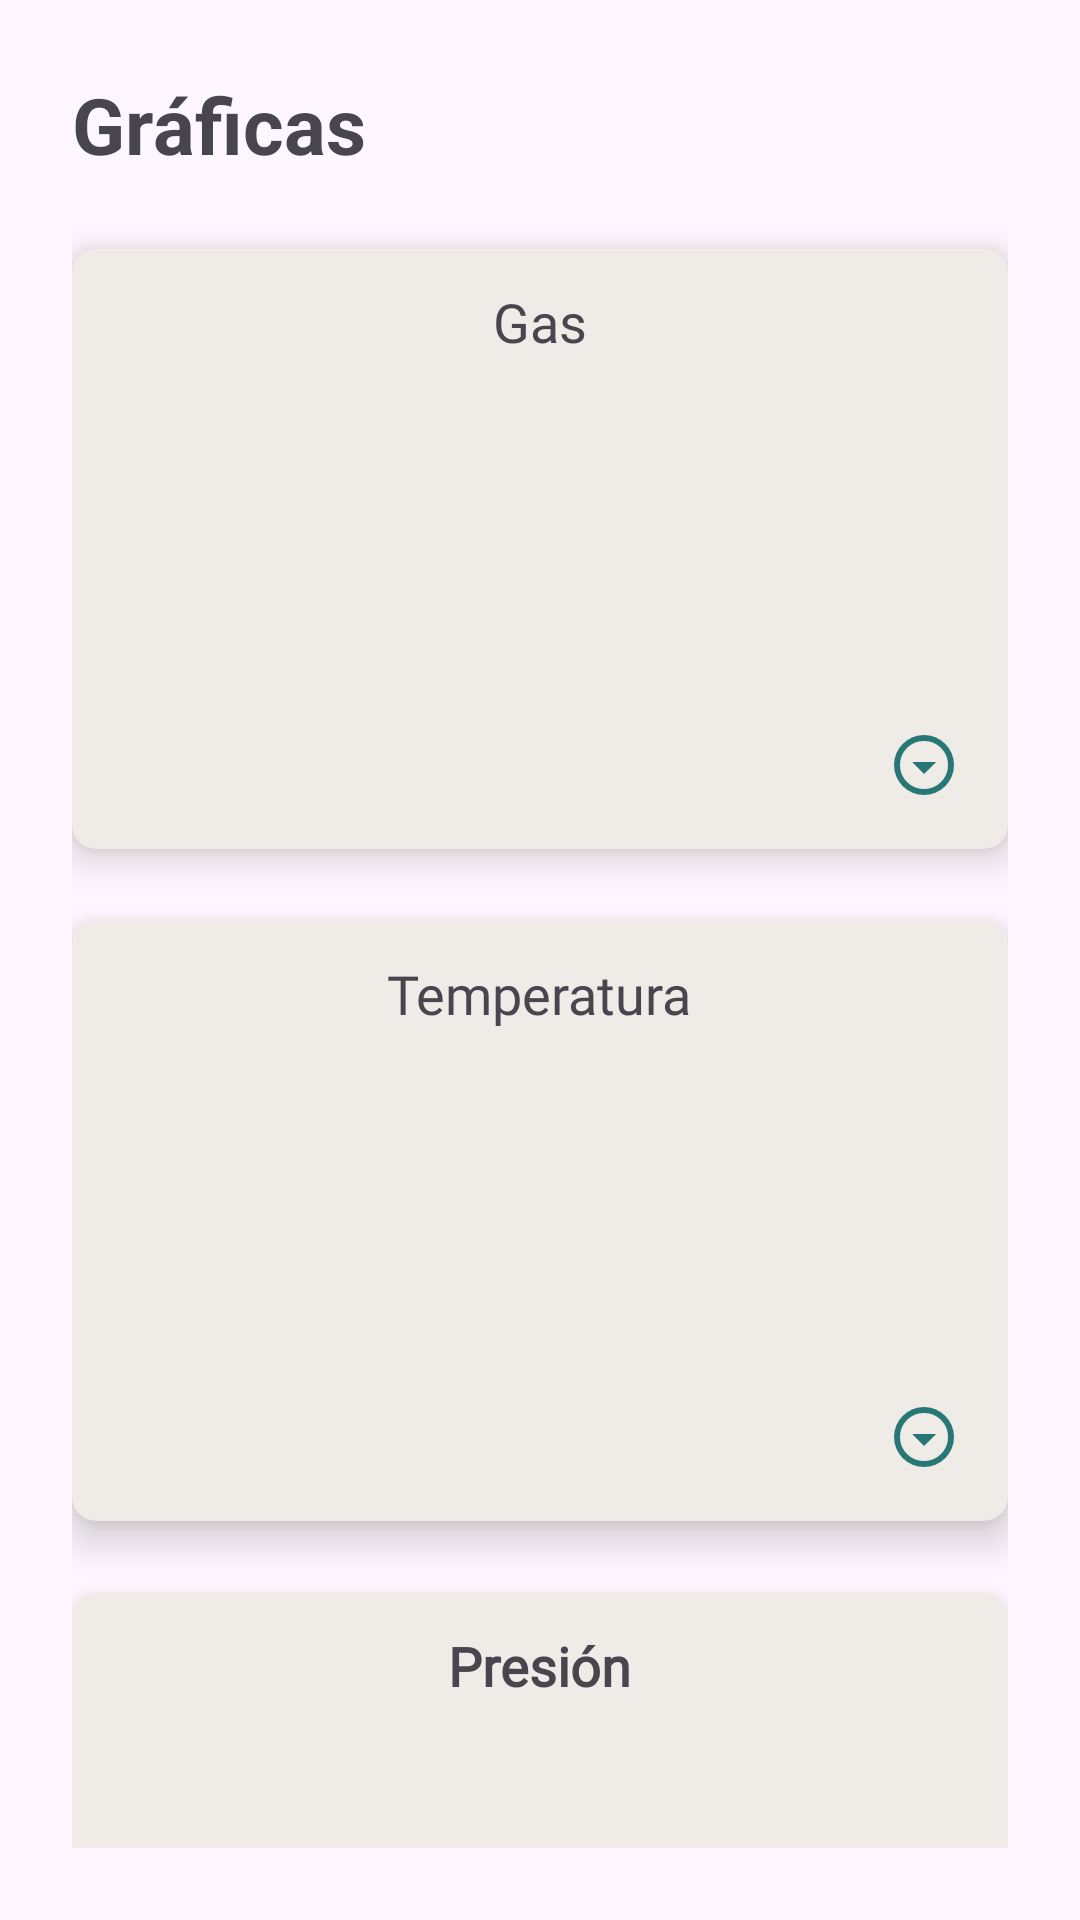

Locate icon controls on the screen. Image size 1080x1920, boxes as bbox=(x1, y1, x2, y2).
Ícono para cambiar el tipo de gráfica: bbox=(894, 735, 954, 795), bbox=(894, 1407, 954, 1467)
